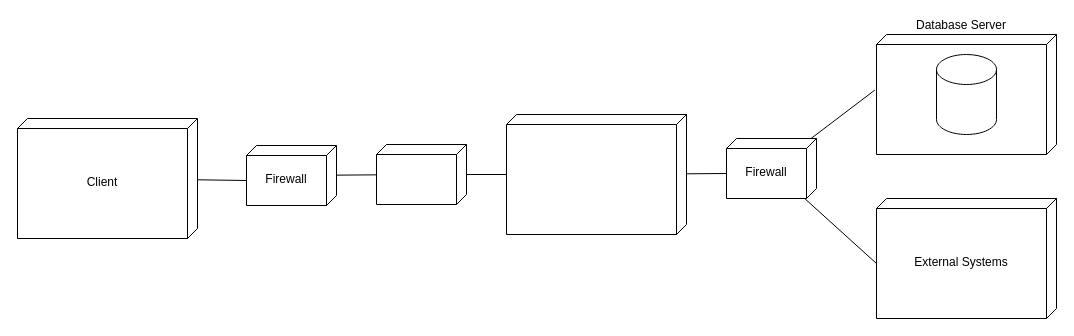
The diagram is 1074 pixels wide and 336 high, and some of its shapes have lost their labels. Here are the shapes that lost their labels. From the top down, the centre of each, then its label:
At point (421, 174): "Load Balancer".
At point (596, 174): "Instance n: Application Server".
